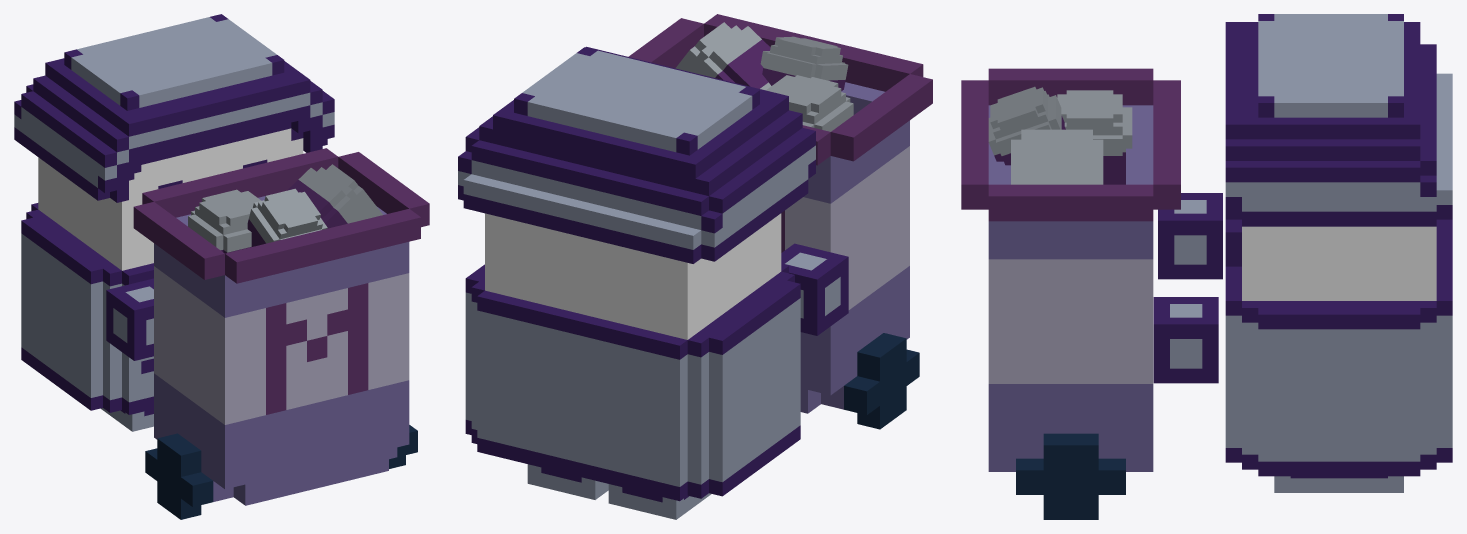
File: p3MetConDizzy.gltf
3 renders of one model, left to right at view 1: azimuth 30°, elevation 25°; view 2: azimuth 150°, elevation 25°; view 3: azimuth 270°, elevation 25°, orthographic. The views are drawn at different scales.
Visible parts, largest first — view 1: Yup2Zup.001; view 2: Yup2Zup.001; view 3: Yup2Zup.001.
Boxes of the visible parts, x1,y1,x2,y2 form: Yup2Zup.001: [14, 14, 429, 519]; Yup2Zup.001: [458, 14, 932, 519]; Yup2Zup.001: [961, 14, 1452, 519].
Bounding box in the file's own units: 1.94 × 2.72 × 3.03.
Materials: 7 (7 with a texture image).
